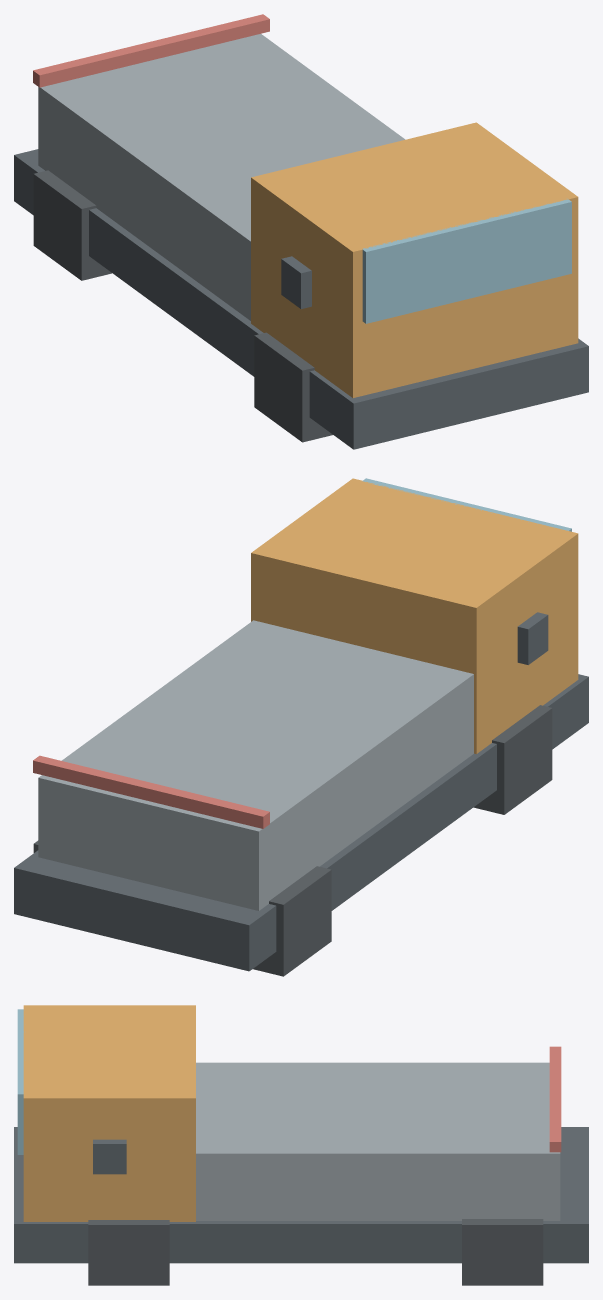
File: truck_lod1.glb
3 views of the same model, one above another, from view 1: azimuth 30°, elevation 25°; view 2: azimuth 150°, elevation 25°; view 3: azimuth 270°, elevation 25° (orthographic). The views are drawn at different scales.
Visible parts, largest first — view 1: truck-node-1, truck-node-9, truck-node-0, truck-node-2, truck-node-3, truck-node-4, truck-node-10, truck-node-7; view 2: truck-node-9, truck-node-1, truck-node-0, truck-node-3, truck-node-4, truck-node-10, truck-node-7, truck-node-2; view 3: truck-node-9, truck-node-1, truck-node-0, truck-node-5, truck-node-6, truck-node-10, truck-node-8, truck-node-2.
Boxes of the visible parts, x1,y1,x2,y2 form: truck-node-1: (251,122,578,397); truck-node-9: (38,34,404,320); truck-node-0: (14,149,588,449); truck-node-2: (362,198,571,323); truck-node-3: (33,170,111,280); truck-node-4: (254,332,332,442); truck-node-10: (33,14,269,87); truck-node-7: (281,256,311,309); truck-node-9: (38,620,473,910); truck-node-1: (251,478,578,753); truck-node-0: (14,674,588,971); truck-node-3: (253,866,331,976); truck-node-4: (473,705,552,814); truck-node-10: (33,755,269,828); truck-node-7: (517,612,548,664); truck-node-2: (362,478,571,531); truck-node-9: (196,1062,560,1220); truck-node-1: (23,1005,195,1221); truck-node-0: (14,1127,588,1263); truck-node-5: (462,1219,543,1285); truck-node-6: (88,1220,169,1285); truck-node-10: (549,1046,561,1152); truck-node-8: (93,1139,126,1174); truck-node-2: (17,1009,23,1154).
Bounding box in the file's own units: 2.55 × 2.1 × 6.
